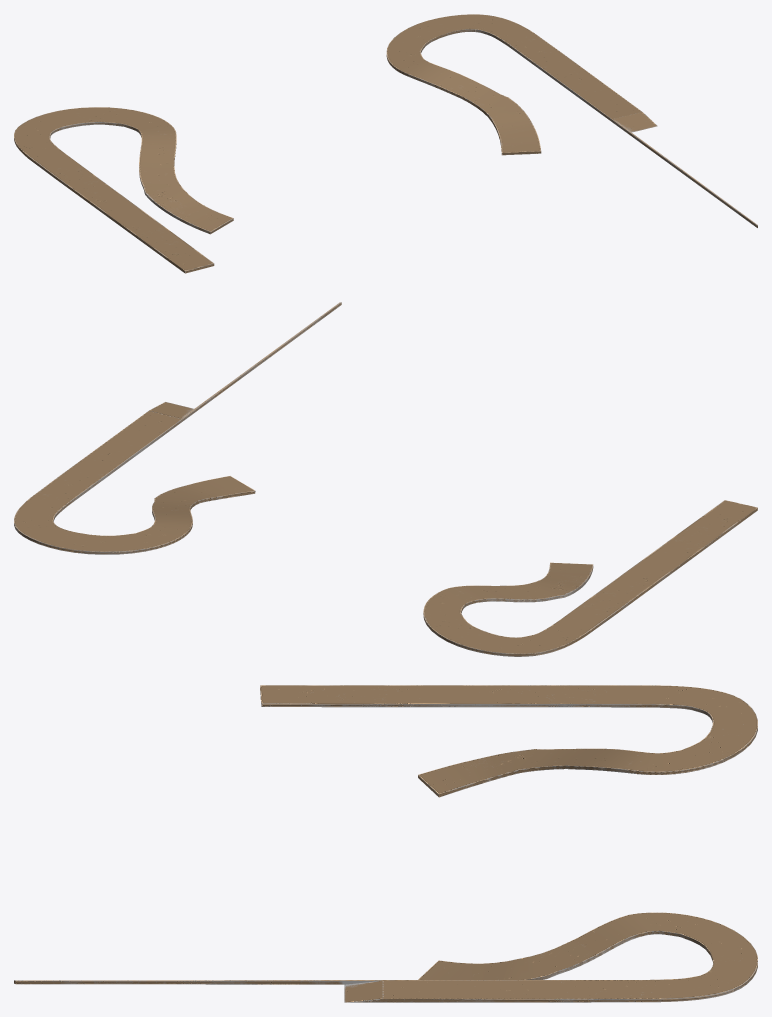
File: newpinball_rail_road.fbx
3 renders of one model, top to bottom at view 1: azimuth 30°, elevation 25°; view 2: azimuth 150°, elevation 25°; view 3: azimuth 270°, elevation 25°, orthographic. The views are drawn at different scales.
Parts seen in each view (by area): view 1: rail_road.001; view 2: rail_road.001; view 3: rail_road.001.
Boxes of the visible parts, left/top/right/bottom form: rail_road.001: left=14, top=14, right=757, bottom=273; rail_road.001: left=14, top=302, right=757, bottom=656; rail_road.001: left=14, top=685, right=757, bottom=1002.
Bounding box in the file's own units: 203 × 11.64 × 203.
